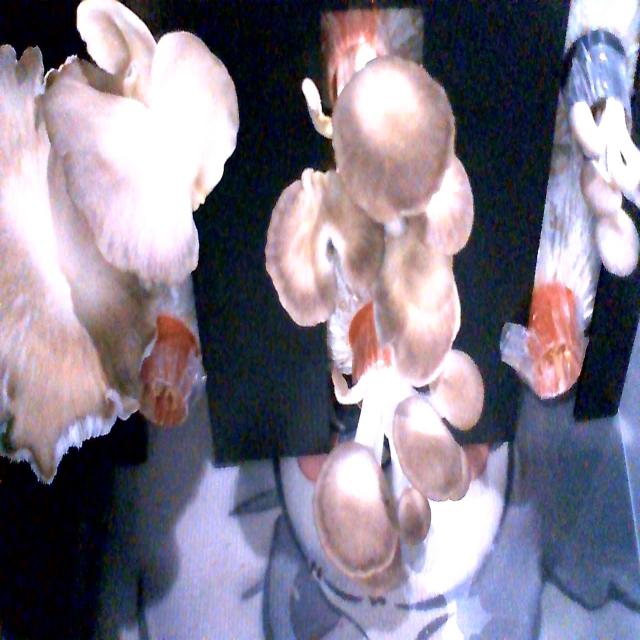big: (0, 0, 252, 523), (260, 58, 468, 388), (314, 347, 514, 589)
nfound: (518, 295, 596, 421), (138, 364, 204, 431)
small: (540, 64, 640, 279)
